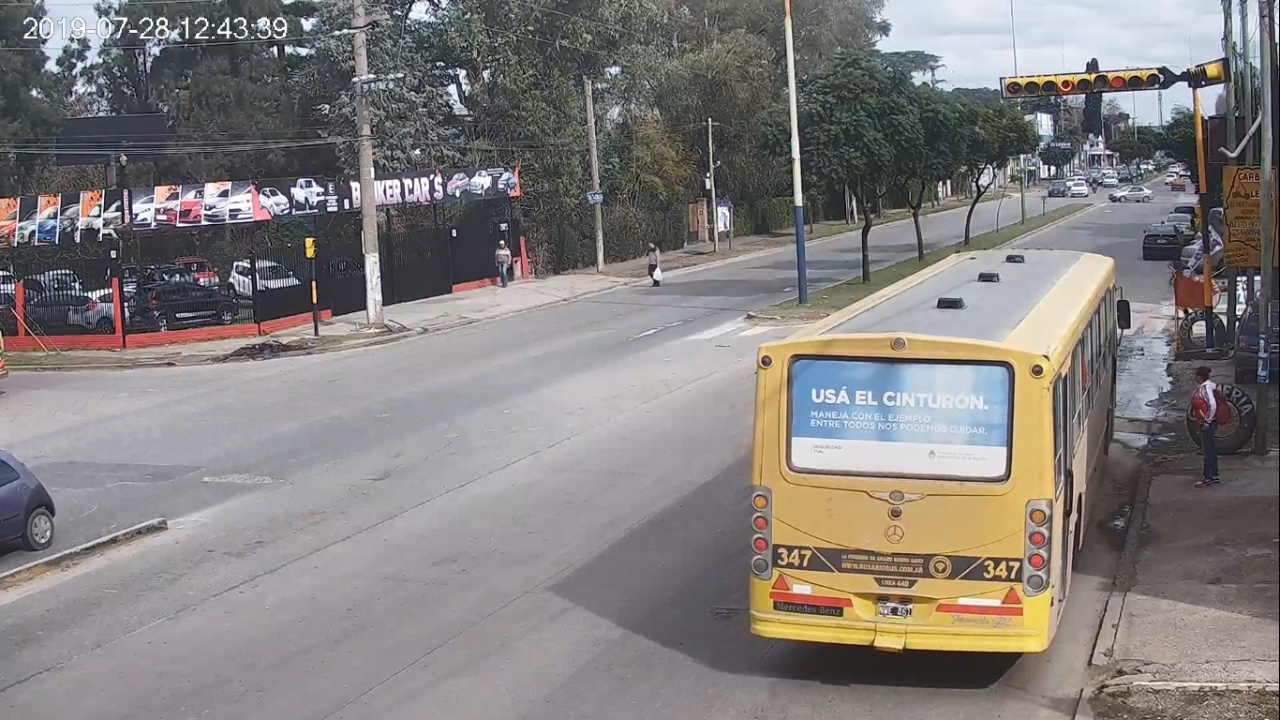bus: (747, 250, 1132, 656)
traffic light: (1057, 70, 1159, 91)
